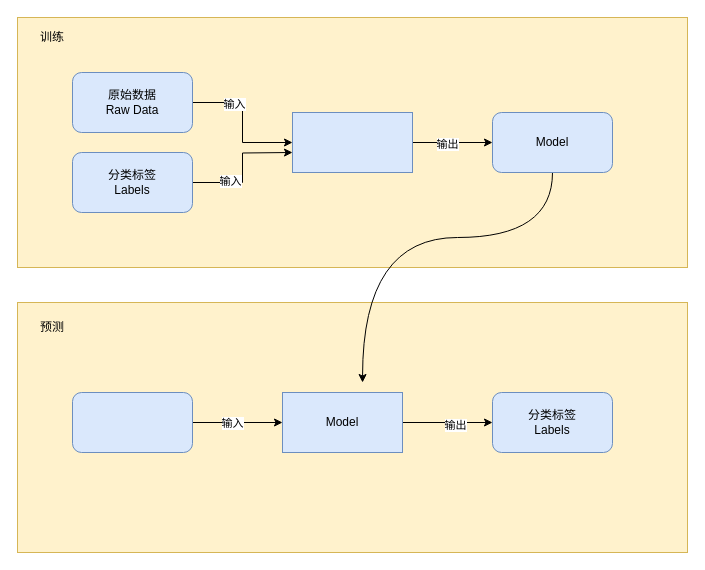
Some shapes in this 705 by 570 pixel diagram are drawn without their labels. Here are the shapes that lost their labels. From the top down, the box of each, then its label:
(292, 112, 412, 172): 模型框架
(72, 392, 192, 452): 新数据 New Data
